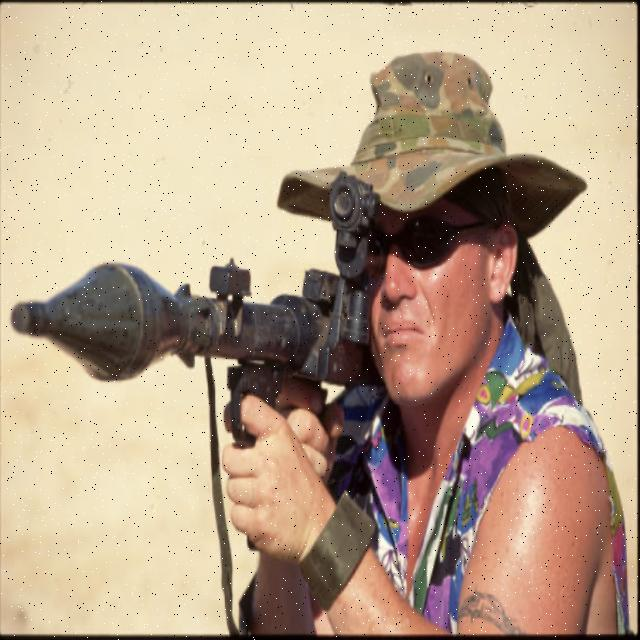bazooka: (10, 252, 376, 398)
